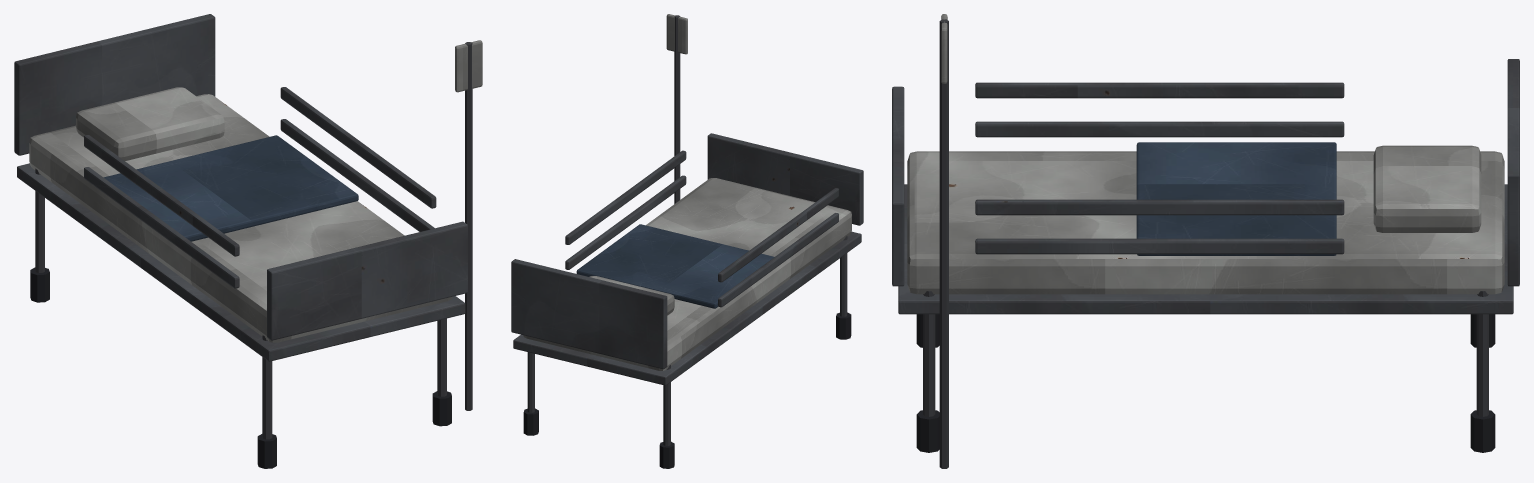
The model's file is hospital_bed.glb.
3 views of the same model, side by side, from view 1: azimuth 30°, elevation 25°; view 2: azimuth 150°, elevation 25°; view 3: azimuth 270°, elevation 25° (orthographic). The views are drawn at different scales.
Parts seen in each view (by area): view 1: body; view 2: body; view 3: body.
Part boxes in pixels (x1=…): body: x1=14, y1=14, x2=482, y2=468; body: x1=511, y1=14, x2=863, y2=468; body: x1=892, y1=14, x2=1519, y2=468.
Size of the model in its own units: 1.07 by 1.6 by 2.04.
4 materials, 4 textured.
